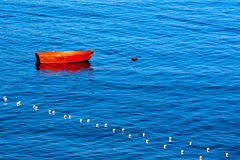buoy: (132, 57, 137, 62)
